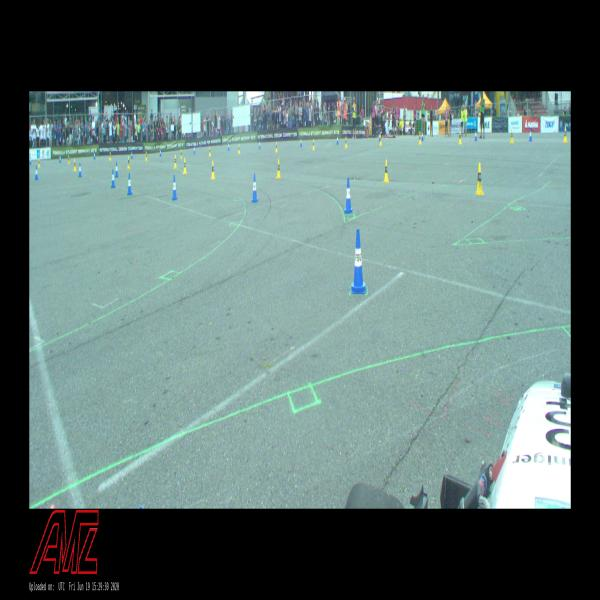blue_cone: (351, 230, 366, 294), (344, 178, 352, 213), (251, 174, 258, 202), (172, 174, 177, 199), (127, 173, 132, 195), (111, 169, 115, 188), (78, 163, 82, 176), (115, 162, 118, 177), (35, 166, 38, 180), (530, 129, 532, 141), (474, 129, 476, 141), (422, 130, 424, 141), (259, 140, 261, 150), (131, 150, 133, 158), (228, 142, 230, 150), (336, 136, 338, 144), (379, 132, 380, 142), (301, 138, 302, 146), (30, 156, 31, 164), (194, 146, 195, 154), (160, 148, 161, 156), (60, 156, 61, 163), (94, 153, 95, 159)
yellow_cone: (476, 163, 484, 194), (384, 160, 389, 182), (276, 159, 280, 179), (211, 161, 215, 179), (183, 158, 187, 174), (564, 127, 568, 142), (511, 130, 514, 143), (174, 155, 177, 168), (418, 132, 421, 145), (312, 139, 315, 150), (379, 135, 382, 146), (275, 142, 278, 152), (459, 131, 461, 144), (128, 157, 130, 168), (74, 159, 76, 170), (345, 137, 347, 147), (180, 149, 182, 159), (238, 144, 240, 154), (68, 155, 70, 164), (209, 148, 211, 157), (38, 159, 40, 167), (110, 152, 112, 160), (146, 152, 147, 160)
